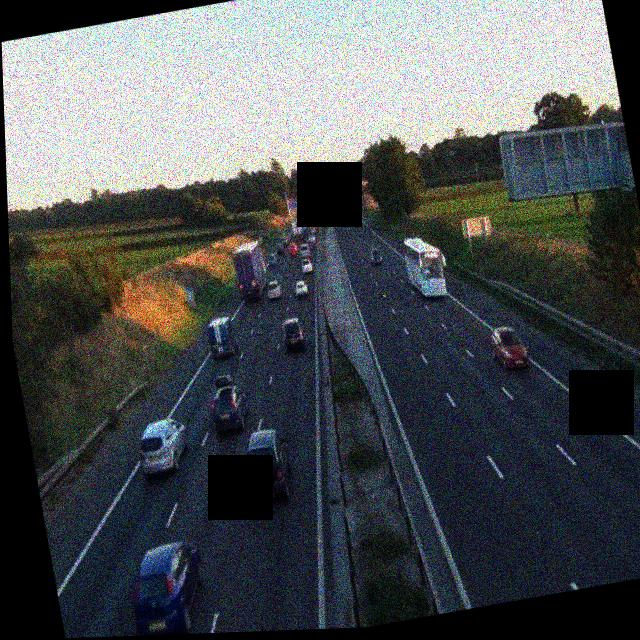bus: (402, 232, 450, 303)
car: (123, 538, 214, 636), (240, 425, 299, 505), (133, 415, 194, 478), (206, 373, 252, 435), (488, 322, 529, 373), (205, 315, 243, 363), (281, 317, 306, 352), (262, 277, 282, 303), (292, 276, 309, 298), (300, 258, 315, 276), (369, 248, 384, 266), (273, 244, 285, 258), (305, 241, 315, 257)
truck: (231, 240, 272, 303), (304, 214, 318, 238), (348, 200, 360, 221)
